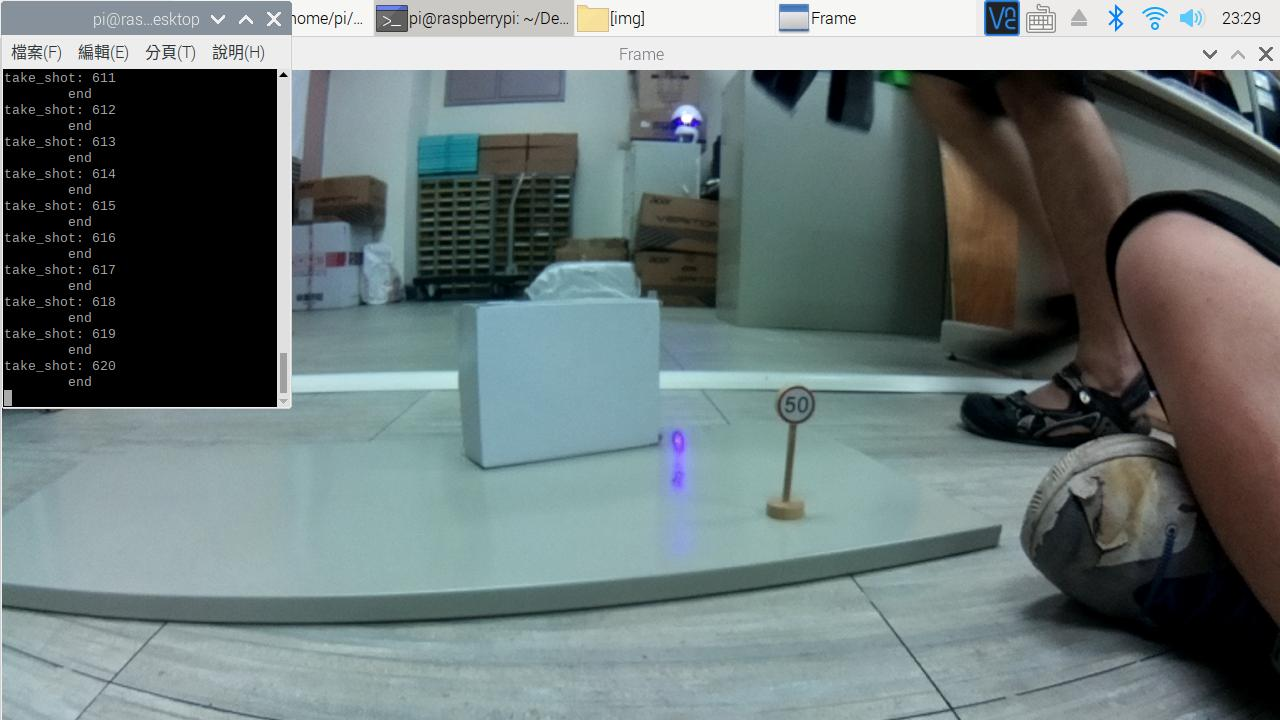Speed50: (764, 381, 829, 431)
